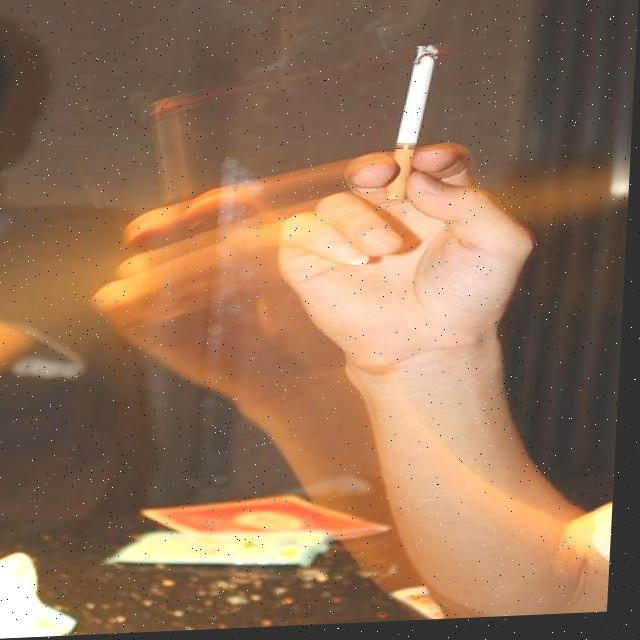cigarette: (387, 47, 440, 204)
